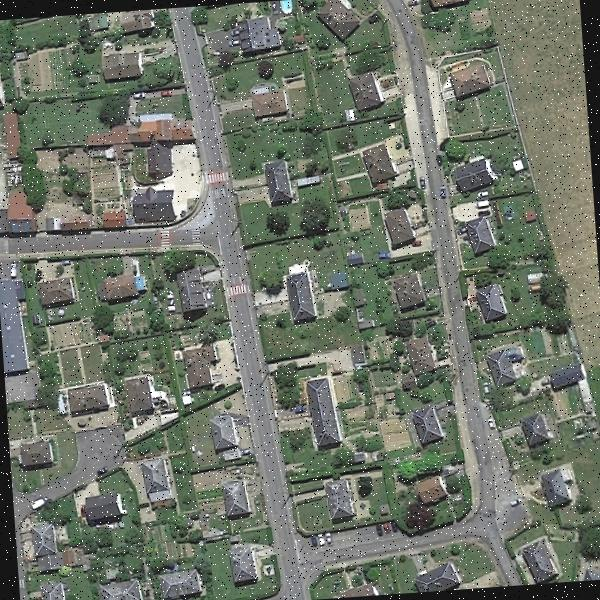Buildings: (95, 126, 187, 164), (303, 378, 342, 444), (344, 69, 396, 107), (149, 566, 205, 600), (317, 0, 365, 39), (514, 542, 560, 582), (171, 264, 210, 310), (534, 468, 571, 515), (358, 145, 403, 183), (284, 272, 316, 324), (378, 208, 416, 250), (230, 538, 264, 584), (65, 380, 108, 416), (140, 462, 173, 508), (124, 378, 158, 422), (458, 155, 498, 192), (184, 350, 220, 390), (320, 484, 360, 520), (217, 476, 251, 518), (100, 48, 144, 80), (444, 62, 490, 92), (262, 158, 292, 203), (420, 558, 459, 592), (514, 415, 556, 446), (98, 269, 138, 301), (252, 86, 292, 118), (208, 416, 245, 450), (408, 410, 441, 444), (78, 498, 124, 520), (39, 277, 74, 304), (255, 13, 283, 46), (474, 290, 503, 321), (398, 274, 426, 306), (489, 352, 511, 390), (470, 222, 496, 254), (30, 514, 52, 550), (20, 438, 50, 462), (409, 341, 431, 373), (422, 479, 447, 503), (105, 583, 140, 600), (39, 585, 71, 600), (421, 0, 477, 7)
